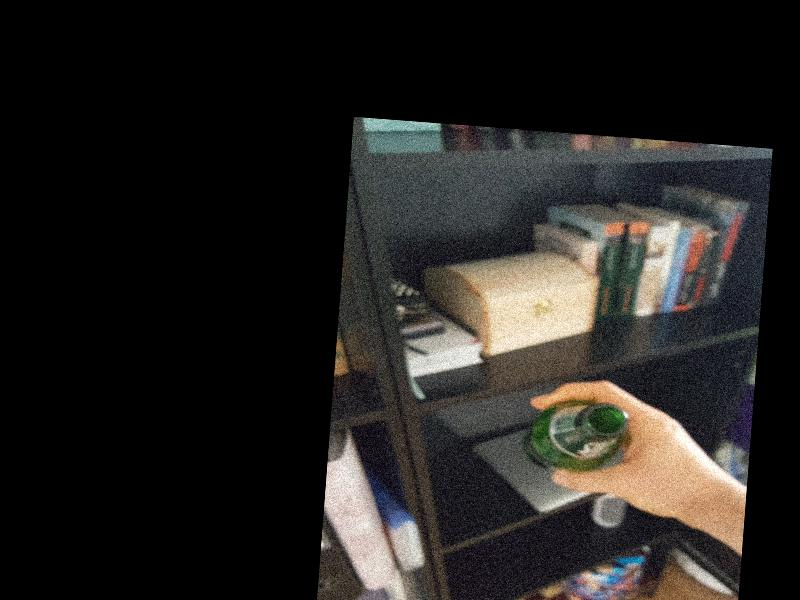Beer: (521, 398, 630, 479)
